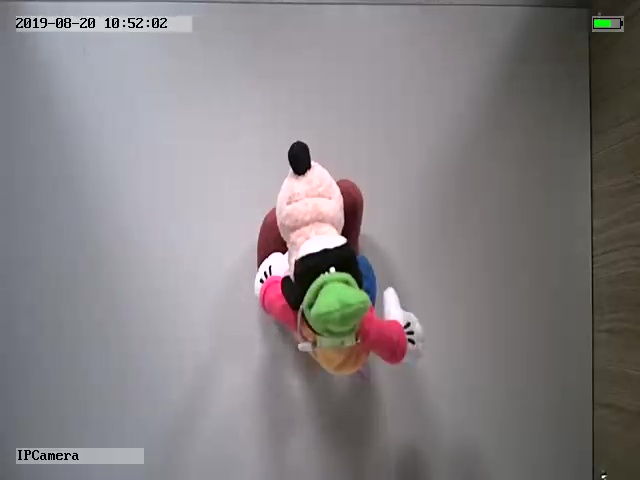goofy: (250, 140, 427, 376)
